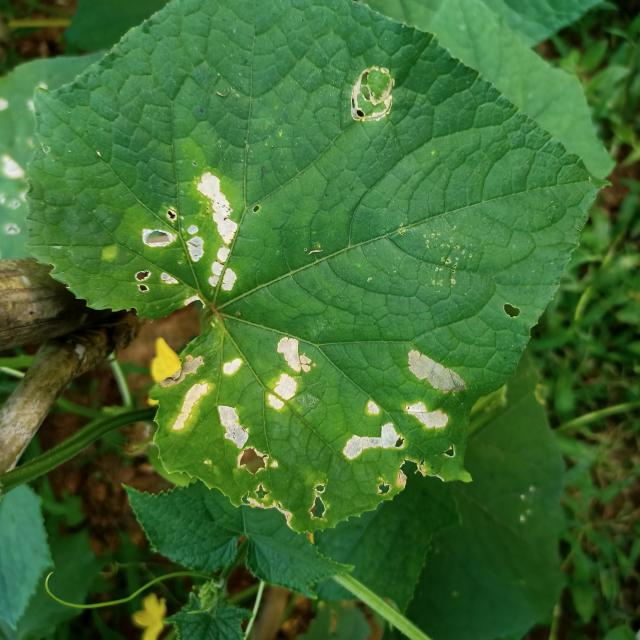disease_cucumber: (134, 170, 250, 312), (163, 332, 256, 469), (403, 345, 471, 432), (262, 334, 316, 417), (338, 400, 402, 463)
